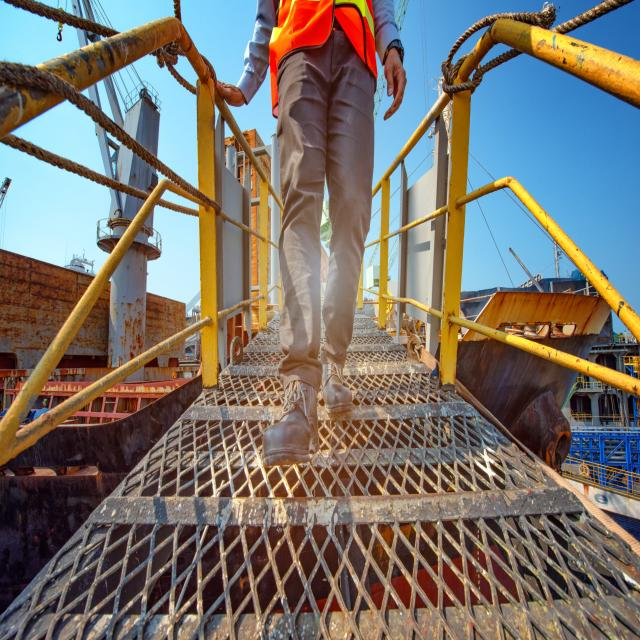shoes: (253, 362, 324, 471), (314, 348, 356, 424)
vest: (258, 5, 392, 111)
